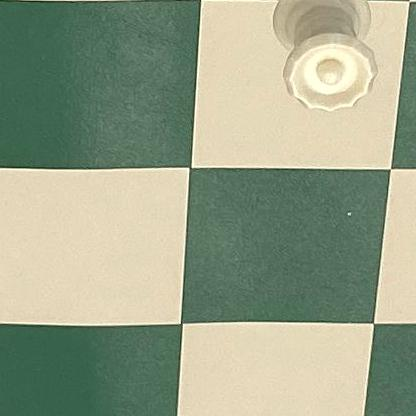white-queen: (236, 0, 382, 118)
